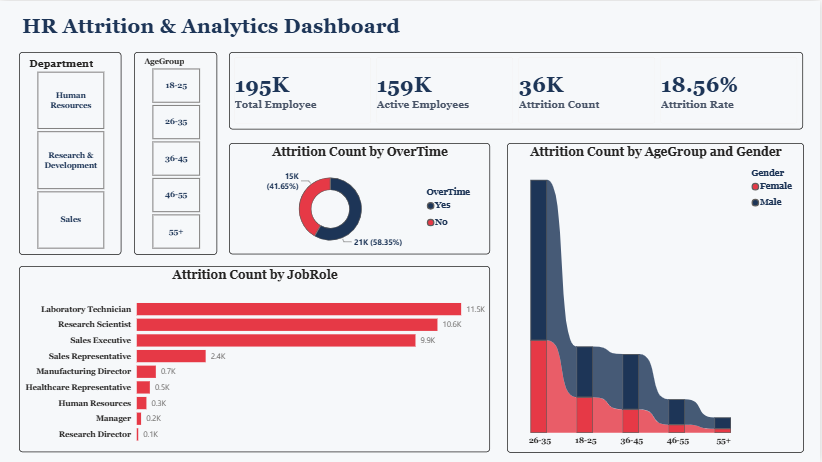

What the dashboard file says about the page in this screenshot:
{"tool":"powerbi","page":{"name":"HR Attrition & Analytics","canvas":[1280,720],"ordinal":1},"visuals":[{"type":"cardVisual","fields":{"Data":["Measure.Total Employee","Measure.Active Employees","Measure.Attrition Count","Measure.Attrition Rate"]},"box":[344.4,79.2,911.1,120.8],"z":0},{"type":"textbox","box":[30.2,15.8,627.8,50.4],"z":1000},{"type":"slicer","fields":{"Values":["Dim Department.Department"]},"box":[30.2,79.2,159.8,316.8],"z":2000},{"type":"clusteredBarChart","fields":{"Category":["Fact Hr Analysis.JobRole"],"Y":["Measure.Attrition Count"]},"box":[30.2,414.7,735.8,290.9],"z":4000},{"type":"ribbonChart","fields":{"Category":["Fact Hr Analysis.AgeGroup"],"Series":["Fact Hr Analysis.Gender"],"Y":["Measure.Attrition Count"]},"box":[792,221.8,463.7,483.8],"z":5000},{"type":"donutChart","fields":{"Category":["Fact Hr Analysis.OverTime"],"Y":["Measure.Attrition Count"]},"box":[344.4,222.2,422.2,173.6],"z":6000},{"type":"actionButton","title":"Home ","box":[1160.9,7.8,93.8,65.6],"z":7000},{"type":"slicer","fields":{"Values":["Fact Hr Analysis.JobRole"]},"box":[205.6,79.2,120.8,316.7],"z":7001}]}

Visuals, with their boxes in screenshot pixels (x1, y1, x2, y2), scaled from the page's 1280x720 canvas onto the 822x462 screenshot:
cardVisual - Measure.Total Employee x Measure.Active Employees: Rect(221, 51, 806, 128)
textbox: Rect(19, 10, 423, 42)
slicer - Dim Department.Department: Rect(19, 51, 122, 254)
clusteredBarChart - Fact Hr Analysis.JobRole x Measure.Attrition Count: Rect(19, 266, 492, 453)
ribbonChart - Fact Hr Analysis.AgeGroup x Fact Hr Analysis.Gender: Rect(509, 142, 806, 453)
donutChart - Fact Hr Analysis.OverTime x Measure.Attrition Count: Rect(221, 143, 492, 254)
"Home " actionButton: Rect(746, 5, 806, 47)
slicer - Fact Hr Analysis.JobRole: Rect(132, 51, 210, 254)
